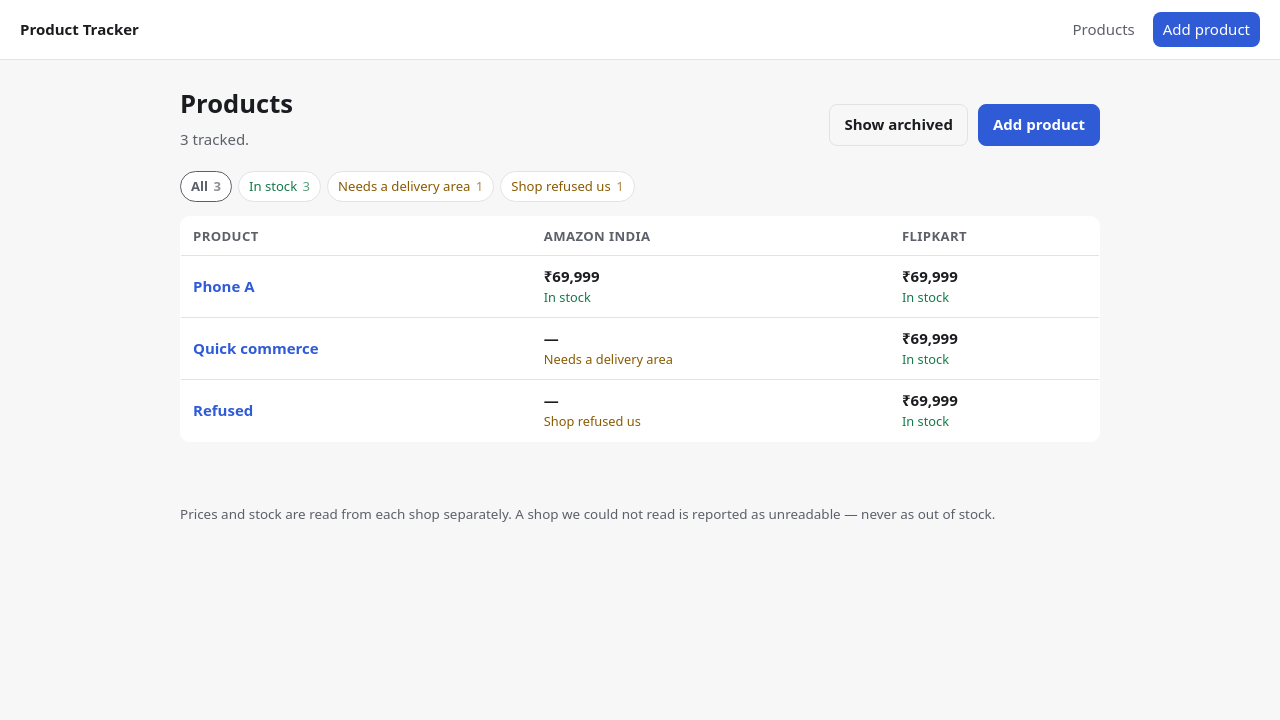
Test: filtering the product list by state › a second click on the active chip clears it
The image size is (1280, 720).
Expected: the link "Phone A" is shown, [193, 276, 254, 296]
What coordinates should you click on to do the following:
click the button "Needs a delivery area 1"
I would click on:
 (411, 186)
Its box is [327, 171, 494, 202].
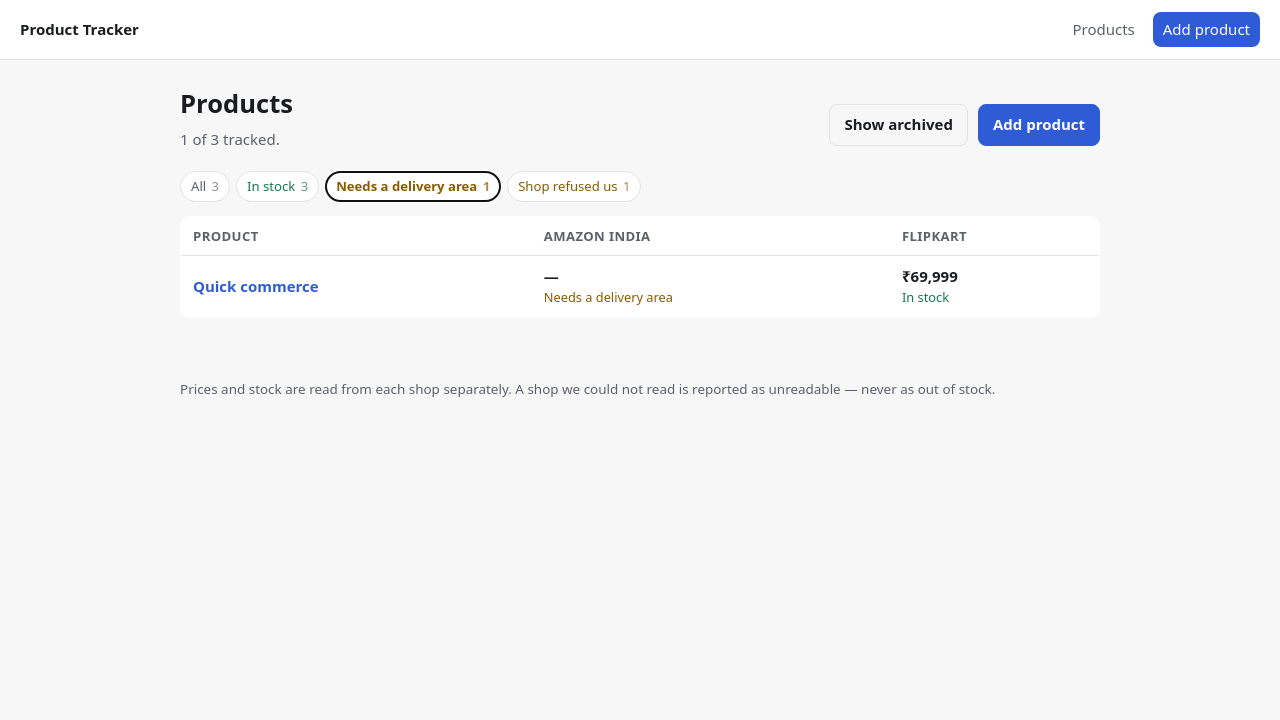
Result: the link "Phone A" is gone
What coordinates should you click on to do the following:
click the button "Needs a delivery area 1"
I would click on:
 (413, 186)
Its box is [325, 171, 501, 202].
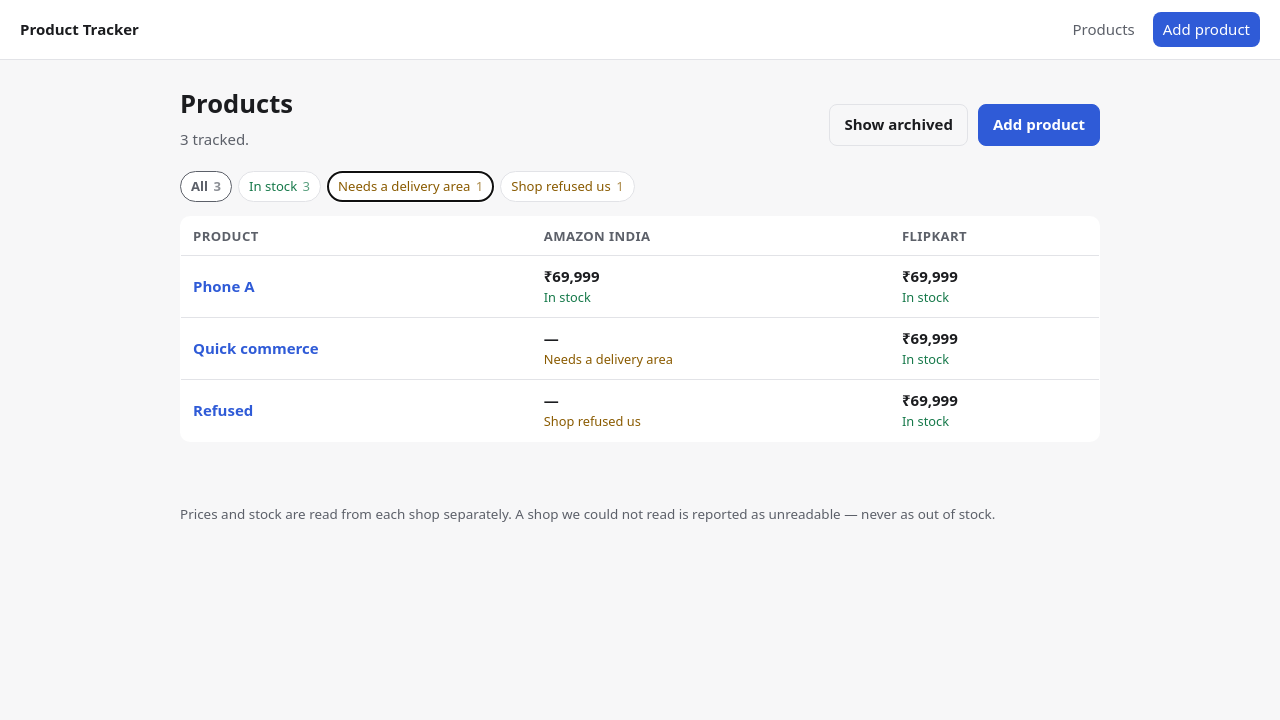
Result: the link "Phone A" is shown at [193, 276, 254, 296]
